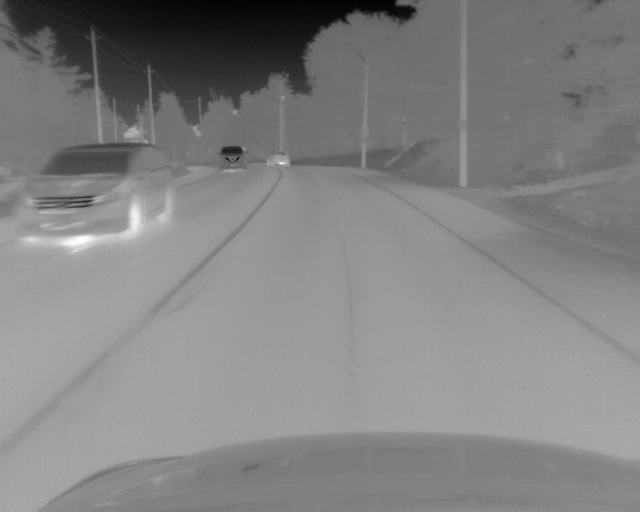car: (13, 141, 177, 246), (216, 145, 248, 171), (263, 149, 289, 167)
